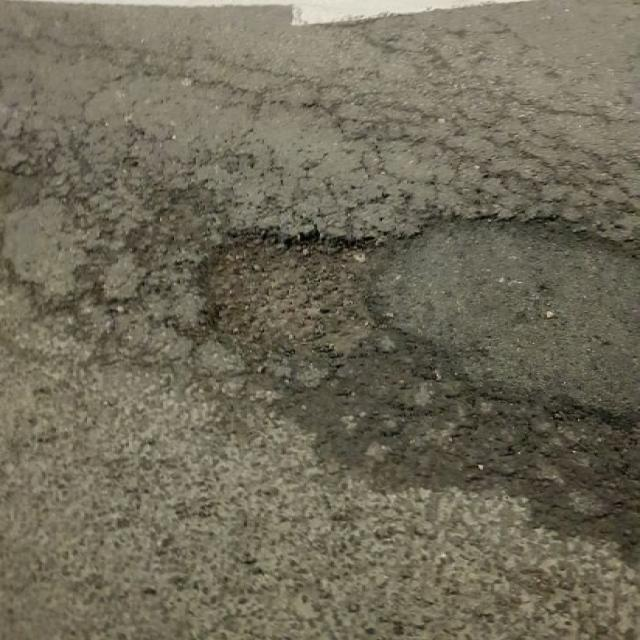Pothole: (192, 226, 391, 372)
